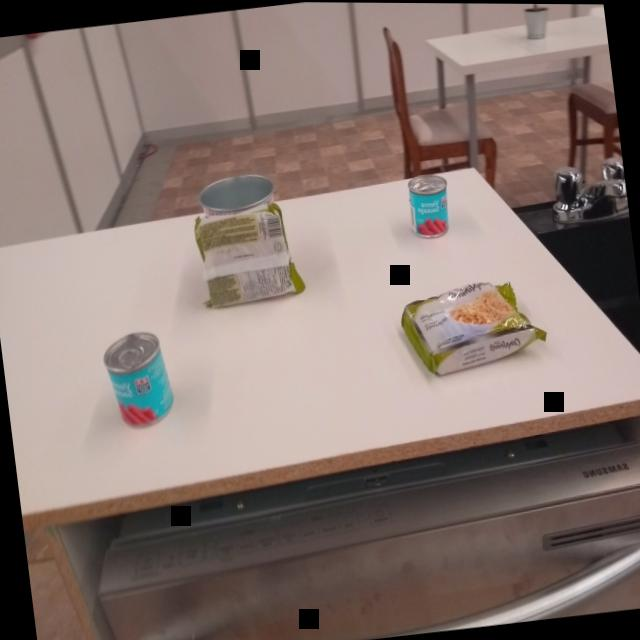noodles: (392, 264, 557, 387), (185, 194, 310, 316)
sausages: (95, 322, 179, 433), (401, 167, 456, 246)
